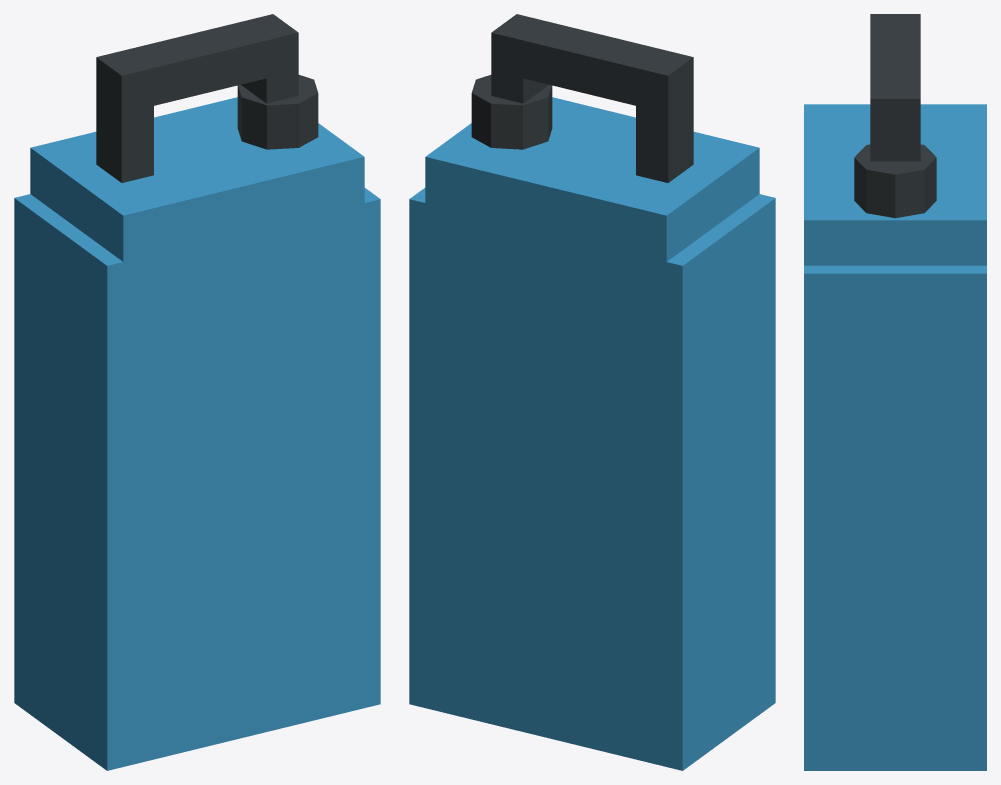
Rendered from TR3_WaterContainer_JerryCan.glb.
The picture shows the model from 3 angles, left to right: view 1: azimuth 30°, elevation 25°; view 2: azimuth 150°, elevation 25°; view 3: azimuth 270°, elevation 25°; orthographic projection.
Parts seen in each view (by area): view 1: TR3_WaterContainer_JerryCan; view 2: TR3_WaterContainer_JerryCan; view 3: TR3_WaterContainer_JerryCan.
Part boxes in pixels (x1,y1,x2,y2): TR3_WaterContainer_JerryCan: (14,14,380,770); TR3_WaterContainer_JerryCan: (409,14,775,770); TR3_WaterContainer_JerryCan: (804,14,986,770).
Size of the model in its own units: 0.34 by 0.7825 by 0.2.
